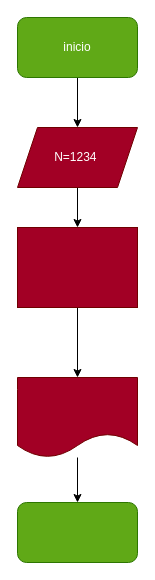
Some shapes in this 155 by 580 pixel diagram are drawn without their labels. The shapes that lost their labels are listed below. From the top down, each one's centre as x and y in pixels, then its label:
At [77,267]: "R=N%10 DE=N/10".
At [77,532]: "fin".
